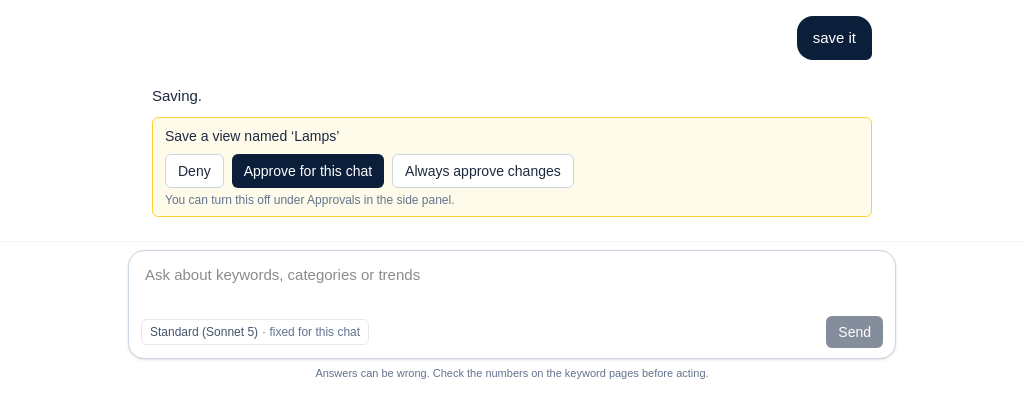
it: Thread › approval cards (arc 4) › renders a live card on the last assistant message and answers it through addToolApprovalResponse + a resend carrying the approval
The width and height of the screenshot is (1024, 396).
Click the button "Approve for this chat" at [308, 171], box [232,154,384,188]
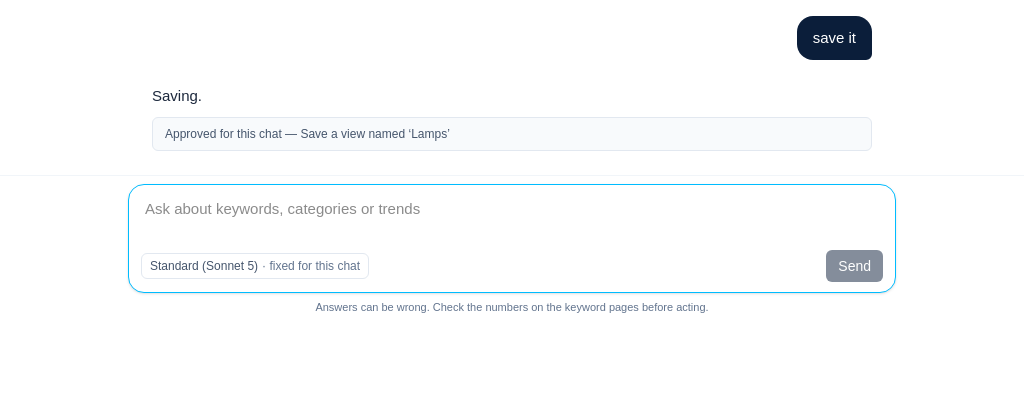
Check: the text "Approved for this chat" is shown, box [165,127,282,141]
Check: the button "Deny" is gone
